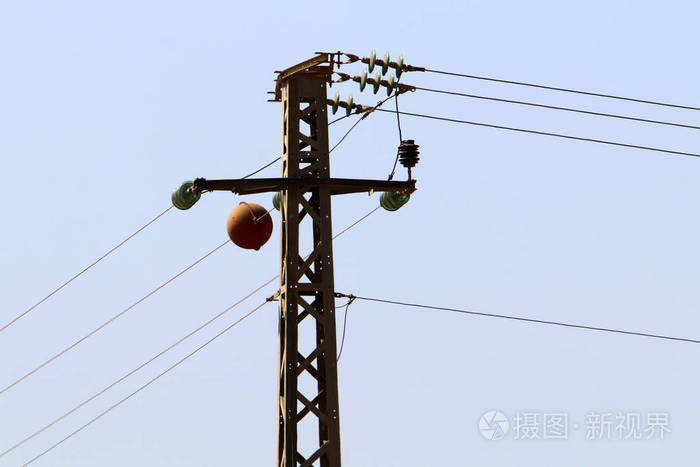insulator: (365, 48, 409, 79), (170, 180, 197, 214), (360, 71, 398, 95), (329, 91, 359, 117), (380, 190, 408, 214)
